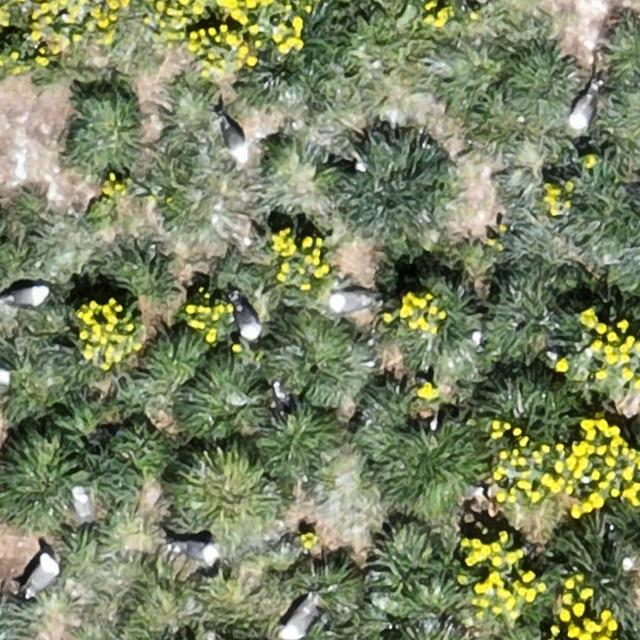umineko: (276, 600, 316, 639), (235, 300, 261, 338), (29, 558, 57, 592), (222, 122, 245, 159), (6, 286, 48, 306), (330, 292, 371, 312), (573, 92, 596, 125), (178, 542, 216, 561), (73, 489, 91, 520)
